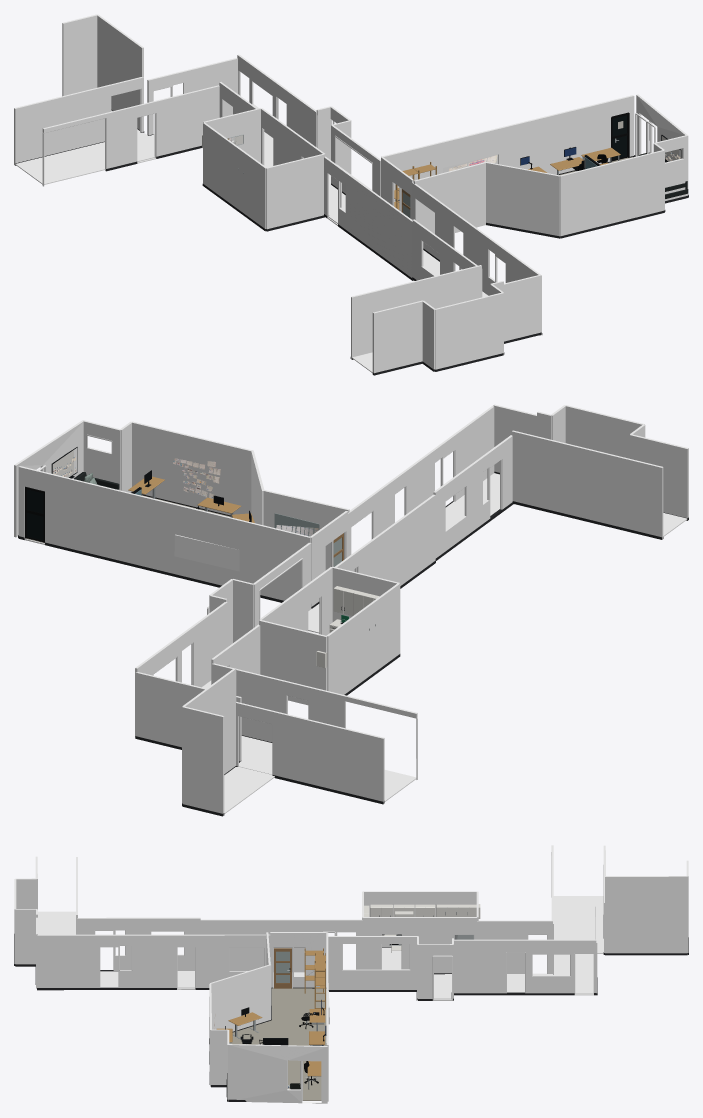
File: model-940ae4ecf086.glb
3 renders of one model, top to bottom at view 1: azimuth 30°, elevation 25°; view 2: azimuth 150°, elevation 25°; view 3: azimuth 270°, elevation 25°, orthographic. The views are drawn at different scales.
Parts seen in each view (by area): view 1: architecture_region_lab-wall-1, architecture_region_lab-wall-5, architecture_region_north-inner, architecture_region_north-outer, architecture_region_lab-hall-west, architecture_region_lab-wall-6, architecture_region_west-inner, architecture_region_west-alcove-back, architecture_region_kitchen-wall-4, architecture_region_kitchen-wall-3, architecture_region_south-hall-east, architecture_region_west-outer-left (+20 smaller); view 2: architecture_region_lab-wall-1, architecture_region_west-inner, architecture_region_lab-wall-5, architecture_region_north-outer, architecture_region_south-hall-east, architecture_region_kitchen-wall-4, architecture_region_north-inner, architecture_region_lab-hall-west, architecture_region_stair-north, architecture_region_south-hall-west, architecture_region_kitchen-wall-1, architecture_region_north-entry (+22 smaller); view 3: architecture_region_south-hall-east, architecture_region_stair-east, architecture_region_central-east, architecture_region_lab-wall-2, architecture_floor_lab-2f, architecture_region_lab-hall-west, architecture_region_kitchen-wall-2, architecture_floor_north-hall-2f, architecture_region_central-east-south, architecture_region_lab-wall-6, architecture_region_south-hall-west, architecture_region_central-west (+11 smaller).
Boxes of the visible parts, x1,y1,x2,y2 form: architecture_region_lab-wall-1: [381, 95, 634, 202]; architecture_region_lab-wall-5: [560, 150, 664, 237]; architecture_region_north-inner: [42, 85, 219, 186]; architecture_region_north-outer: [14, 85, 108, 165]; architecture_region_lab-hall-west: [324, 156, 412, 277]; architecture_region_lab-wall-6: [485, 161, 560, 236]; architecture_region_west-inner: [351, 265, 481, 359]; architecture_region_west-alcove-back: [434, 292, 503, 369]; architecture_region_kitchen-wall-4: [203, 122, 266, 228]; architecture_region_kitchen-wall-3: [266, 154, 324, 229]; architecture_region_south-hall-east: [412, 182, 541, 335]; architecture_region_west-outer-left: [372, 300, 422, 373]; architecture_region_lab-wall-1: [18, 466, 310, 600]; architecture_region_west-inner: [511, 430, 663, 539]; architecture_region_lab-wall-5: [131, 421, 253, 515]; architecture_region_north-outer: [275, 711, 384, 803]; architecture_region_south-hall-east: [348, 405, 494, 571]; architecture_region_kitchen-wall-4: [326, 583, 400, 694]; architecture_region_north-inner: [211, 663, 417, 779]; architecture_region_lab-hall-west: [335, 494, 435, 585]; architecture_region_stair-north: [182, 706, 224, 815]; architecture_region_south-hall-west: [433, 435, 512, 557]; architecture_region_kitchen-wall-1: [259, 620, 327, 705]; architecture_region_north-entry: [135, 672, 241, 761]; architecture_region_south-hall-east: [37, 934, 270, 989]; architecture_region_stair-east: [605, 876, 687, 953]; architecture_region_central-east: [454, 939, 596, 995]; architecture_region_lab-wall-2: [228, 1044, 327, 1103]; architecture_floor_lab-2f: [229, 988, 326, 1100]; architecture_region_lab-hall-west: [200, 919, 362, 972]; architecture_region_kitchen-wall-2: [363, 917, 476, 973]; architecture_floor_north-hall-2f: [553, 896, 603, 994]; architecture_region_central-east-south: [328, 936, 417, 989]; architecture_region_lab-wall-6: [210, 964, 271, 1031]; architecture_region_south-hall-west: [77, 917, 200, 970]; architecture_region_central-west: [477, 920, 552, 973].
Size of the model in its own units: 24.21 by 4.21 by 32.79.
Materials: 54 (5 with a texture image).
